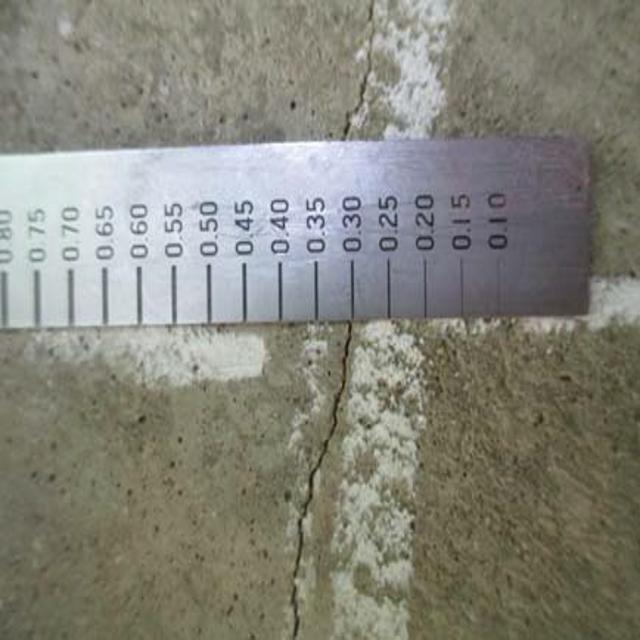crack: (261, 335, 348, 640), (327, 4, 382, 143)
